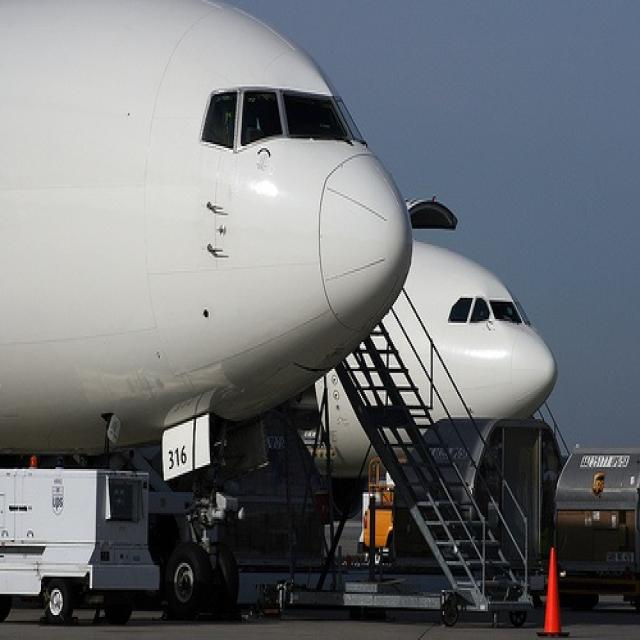aeroplane: (0, 0, 412, 617), (299, 238, 557, 477)
